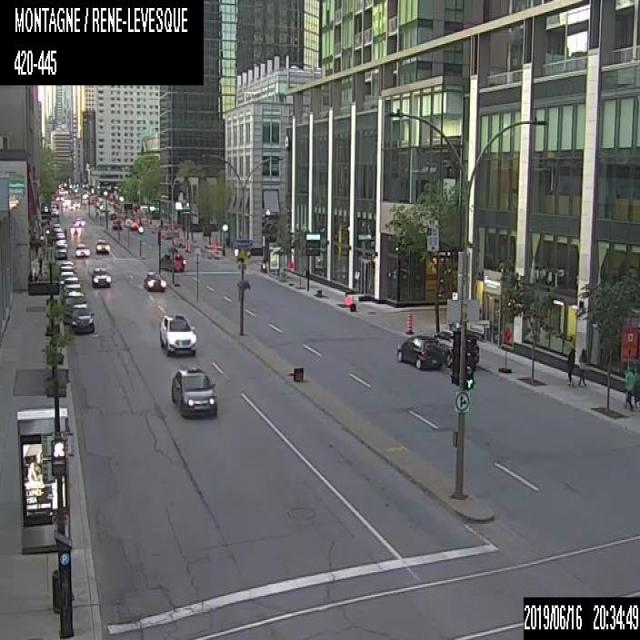construction: (404, 310, 412, 334)
pedestrian: (623, 367, 635, 408), (578, 346, 588, 386), (566, 348, 576, 385)
vehicle: (169, 366, 216, 422), (396, 332, 442, 371), (434, 327, 479, 366), (159, 308, 196, 355), (71, 304, 94, 335), (156, 252, 186, 271), (63, 291, 85, 316), (89, 264, 110, 288), (143, 269, 165, 291), (63, 276, 82, 296), (59, 270, 77, 288), (60, 260, 76, 278), (74, 240, 90, 255), (54, 242, 67, 258), (96, 236, 109, 252), (111, 218, 123, 231), (74, 214, 85, 225), (48, 204, 59, 214), (70, 223, 80, 234), (48, 216, 49, 217)
